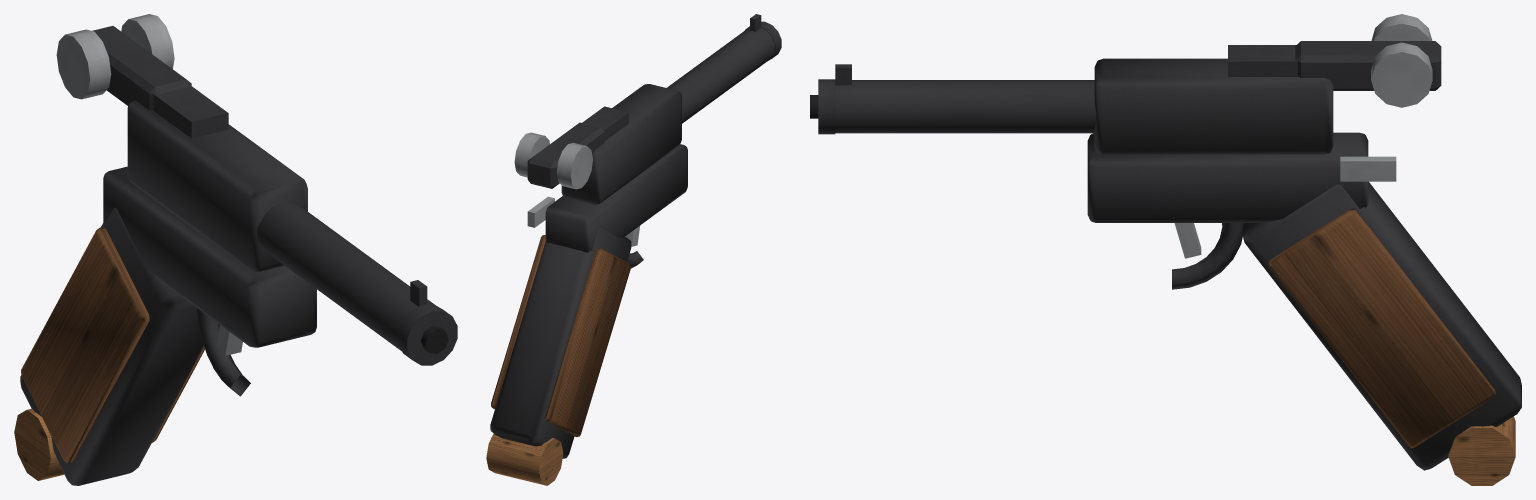
The model's file is OB_Pistolet_Luger.fbx.
3 renders of one model, left to right at view 1: azimuth 30°, elevation 25°; view 2: azimuth 150°, elevation 25°; view 3: azimuth 270°, elevation 25°, orthographic. The views are drawn at different scales.
Parts seen in each view (by area): view 1: Bron, Kolano, Magazynek, Spust; view 2: Bron, Kolano, Magazynek; view 3: Bron, Kolano, Magazynek.
Part boxes in pixels (box(x1,y1,x2,y2)): Bron: box(20, 101, 457, 485); Kolano: box(56, 14, 228, 138); Magazynek: box(14, 408, 64, 480); Spust: box(216, 325, 242, 355); Bron: box(490, 14, 781, 458); Kolano: box(514, 106, 628, 189); Magazynek: box(486, 433, 563, 485); Bron: box(810, 58, 1521, 470); Kolano: box(1228, 14, 1441, 107); Magazynek: box(1448, 416, 1515, 485).
Size of the model in its own units: 0.035 by 0.1712 by 0.2538.
